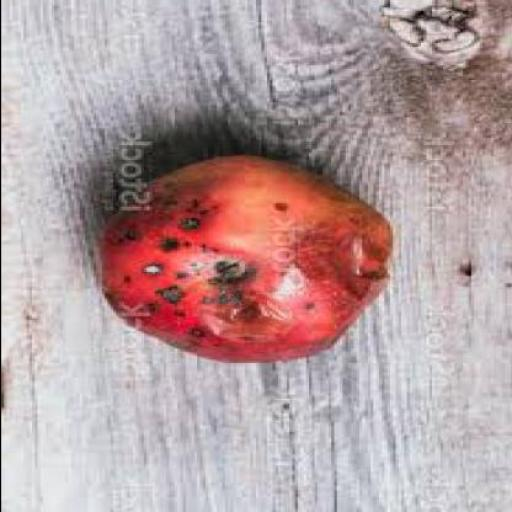biodegradable: (98, 161, 397, 365)
